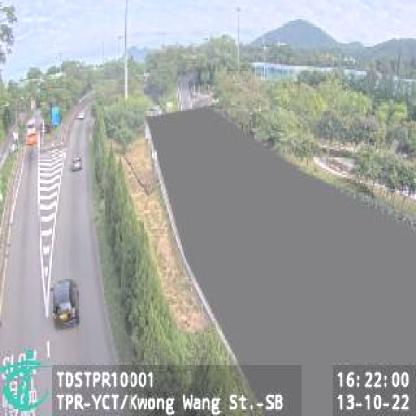Car: (52, 278, 79, 332), (71, 154, 83, 172)
